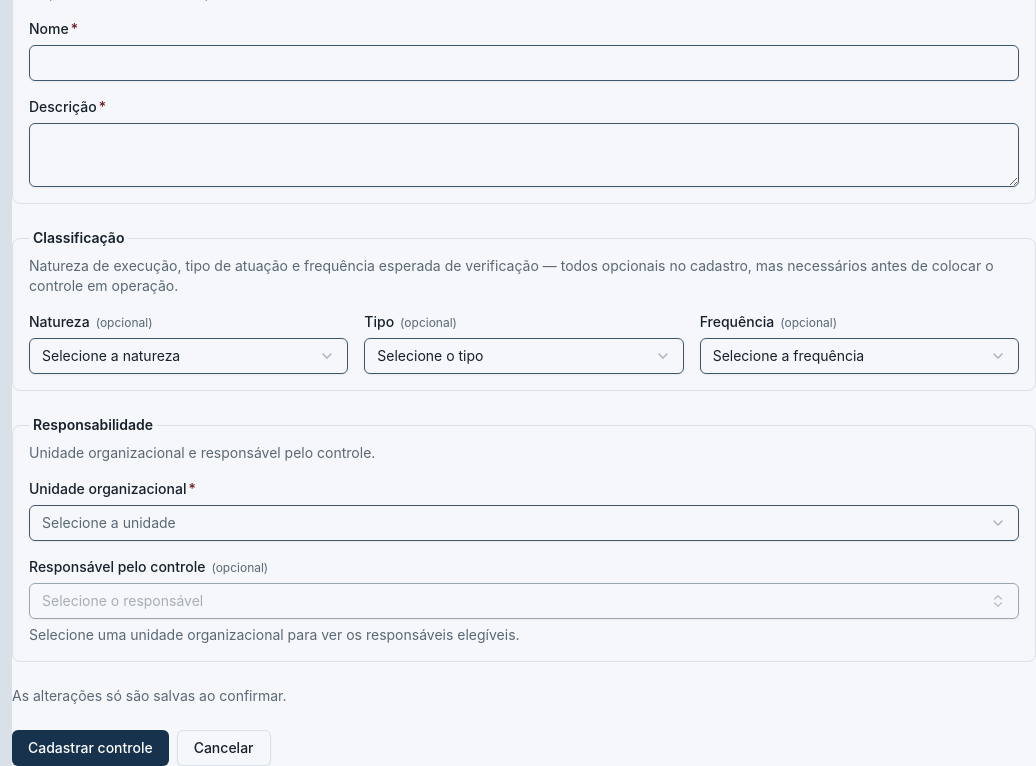
Test case: ControlForm › requires name, description and org unit — owner stays optional (FR-005)
(page scrolled)
Expected: the field labelled "Nome*" is enabled, [29,45,1019,81]
Click the button "Cadastrar controle".
click(90, 748)  # box [12,730,169,765]
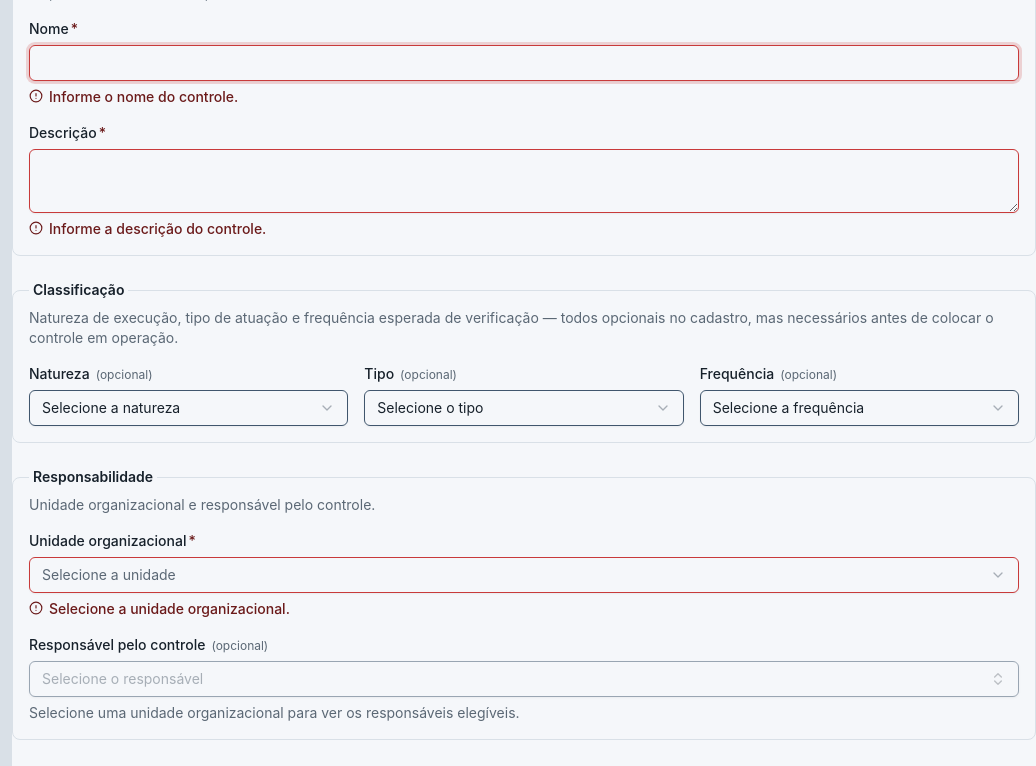
Result: the text "Informe o nome do controle." is shown at [49,87,238,107]
Result: the text "Informe a descrição do controle." is shown at [49,219,266,239]
Result: the text "Selecione a unidade organizacional." is shown at [49,599,290,619]
